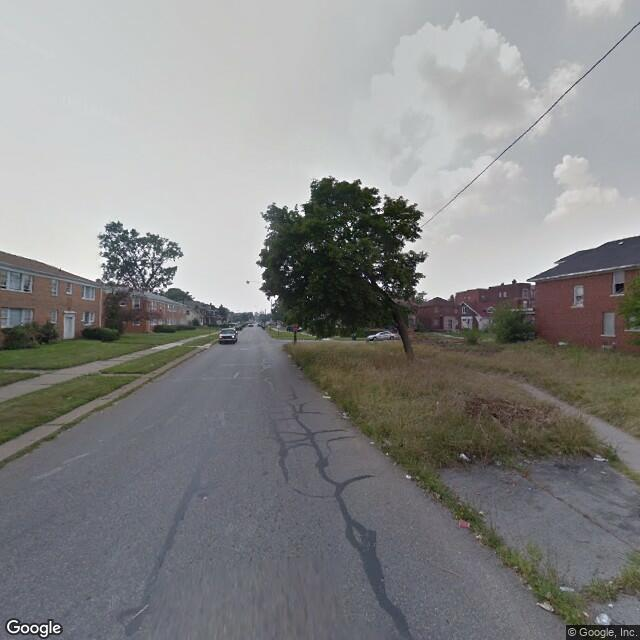litter: (539, 601, 558, 613), (592, 448, 608, 462), (597, 611, 610, 625), (459, 515, 473, 528), (338, 411, 352, 421), (458, 453, 471, 463), (558, 585, 575, 592), (514, 460, 531, 467), (366, 438, 375, 449), (402, 473, 414, 481), (318, 393, 330, 398)
